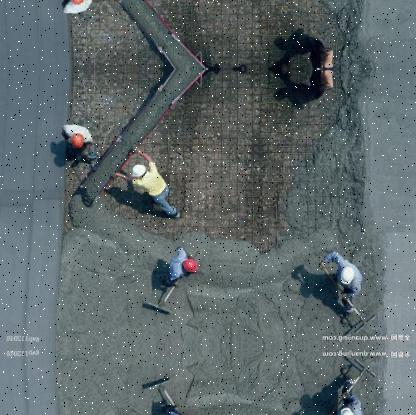helmet: (335, 265, 360, 288), (179, 256, 204, 275), (67, 129, 90, 149), (130, 160, 149, 181), (335, 402, 361, 413), (67, 0, 91, 8)
